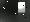person: (19, 4, 26, 17)
